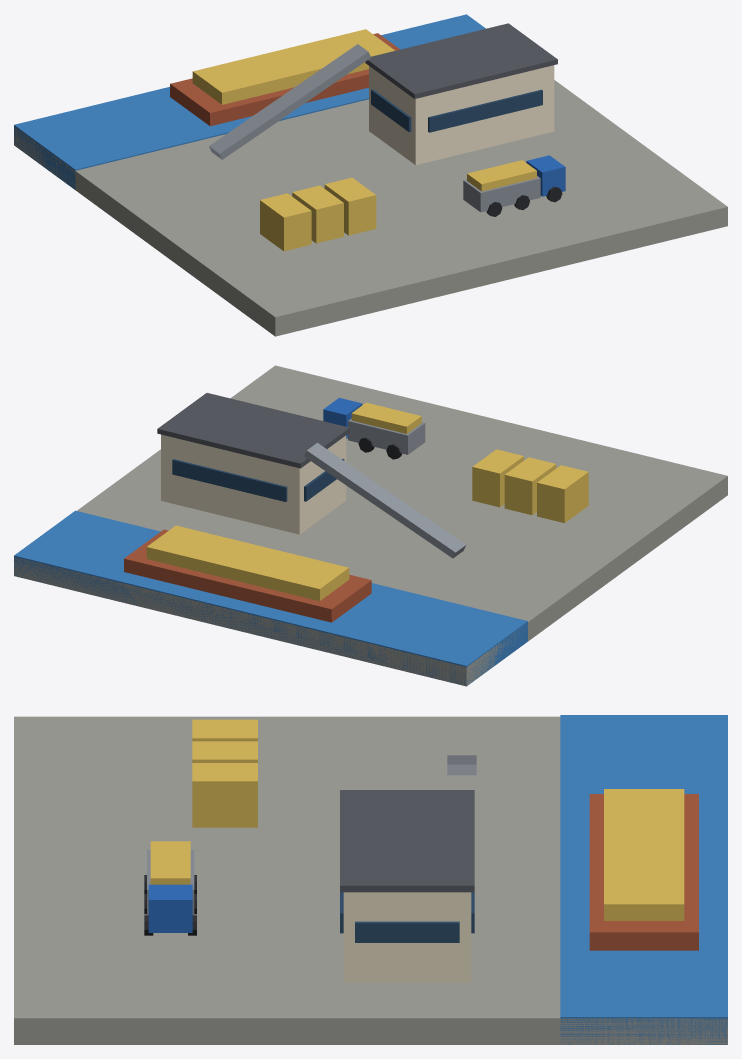
The model's file is agro_special_3.glb.
3 views of the same model, one above another, from view 1: azimuth 30°, elevation 25°; view 2: azimuth 150°, elevation 25°; view 3: azimuth 270°, elevation 25° (orthographic). The views are drawn at different scales.
Visible parts, largest first — view 1: agro_special_3; view 2: agro_special_3; view 3: agro_special_3.
Part boxes in pixels (<box>): agro_special_3: <box>14,14,727,336</box>; agro_special_3: <box>14,365,727,686</box>; agro_special_3: <box>14,715,727,1044</box>.
Bounding box in the file's own units: 1.96 × 0.4439 × 1.96.
